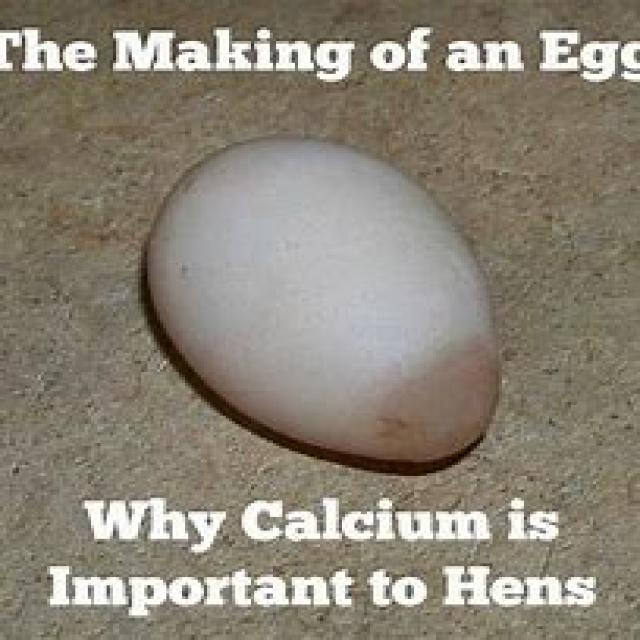Blood Stained Egg: (143, 128, 482, 463)
